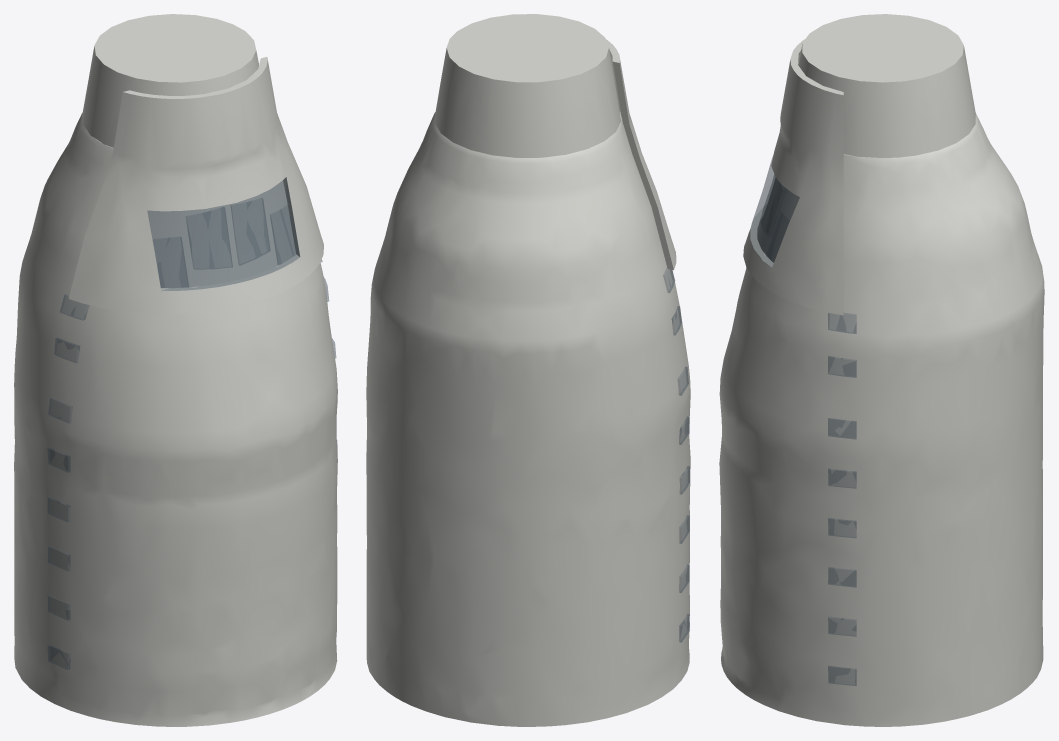
Rendered from cockpit04_inline_droop_cockpit.glb.
3 views of the same model, side by side, from view 1: azimuth 30°, elevation 25°; view 2: azimuth 150°, elevation 25°; view 3: azimuth 270°, elevation 25° (orthographic).
Visible parts, largest first — view 1: fuselage, visor_frame, nose_hinge_section, visor_glass, windows; view 2: fuselage, nose_hinge_section, visor_frame, windows; view 3: fuselage, nose_hinge_section, visor_frame, windows, visor_glass.
Boxes of the visible parts, bbox=[...] form: fuselage: bbox=[14, 113, 337, 726]; visor_frame: bbox=[68, 57, 323, 313]; nose_hinge_section: bbox=[82, 14, 258, 147]; visor_glass: bbox=[147, 177, 299, 291]; windows: bbox=[47, 198, 337, 669]; fuselage: bbox=[366, 112, 690, 726]; nose_hinge_section: bbox=[435, 14, 620, 157]; visor_frame: bbox=[606, 39, 676, 270]; windows: bbox=[663, 268, 689, 642]; fuselage: bbox=[719, 113, 1044, 726]; nose_hinge_section: bbox=[798, 14, 975, 157]; visor_frame: bbox=[743, 39, 843, 315]; windows: bbox=[760, 175, 856, 685]; visor_glass: bbox=[750, 156, 799, 267].
Size of the model in its own units: 2.52 by 5.2 by 2.51.
